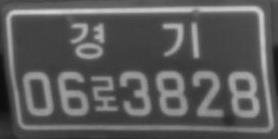0: (21, 70, 54, 116)
2: (191, 68, 225, 119)
3: (119, 68, 153, 118)
6: (57, 69, 90, 118)
8: (226, 69, 261, 120), (154, 69, 189, 118)
경기_D: (68, 21, 201, 60)
로: (90, 74, 120, 112)
